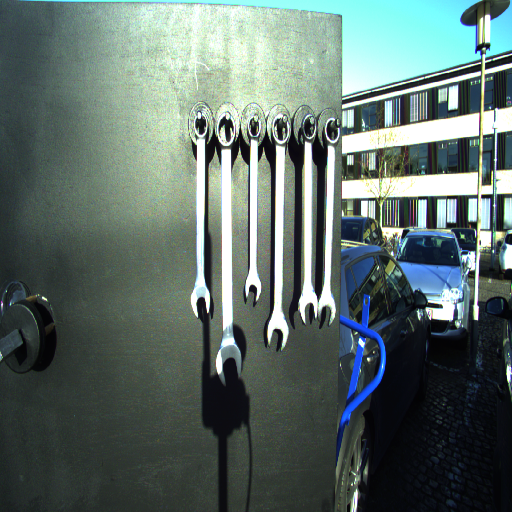bottom: (214, 345, 244, 387), (264, 313, 289, 350), (189, 285, 213, 319), (295, 289, 318, 324), (318, 291, 338, 325), (243, 273, 263, 304)
top: (215, 112, 238, 148), (270, 112, 292, 147), (321, 116, 342, 147), (300, 112, 319, 143), (192, 113, 210, 139), (245, 116, 263, 139)
